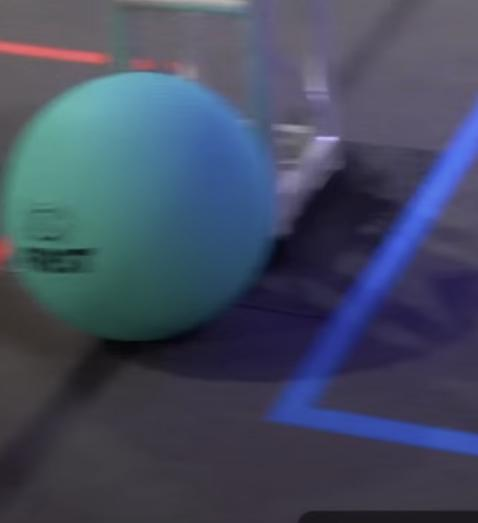algae: (0, 72, 276, 341)
